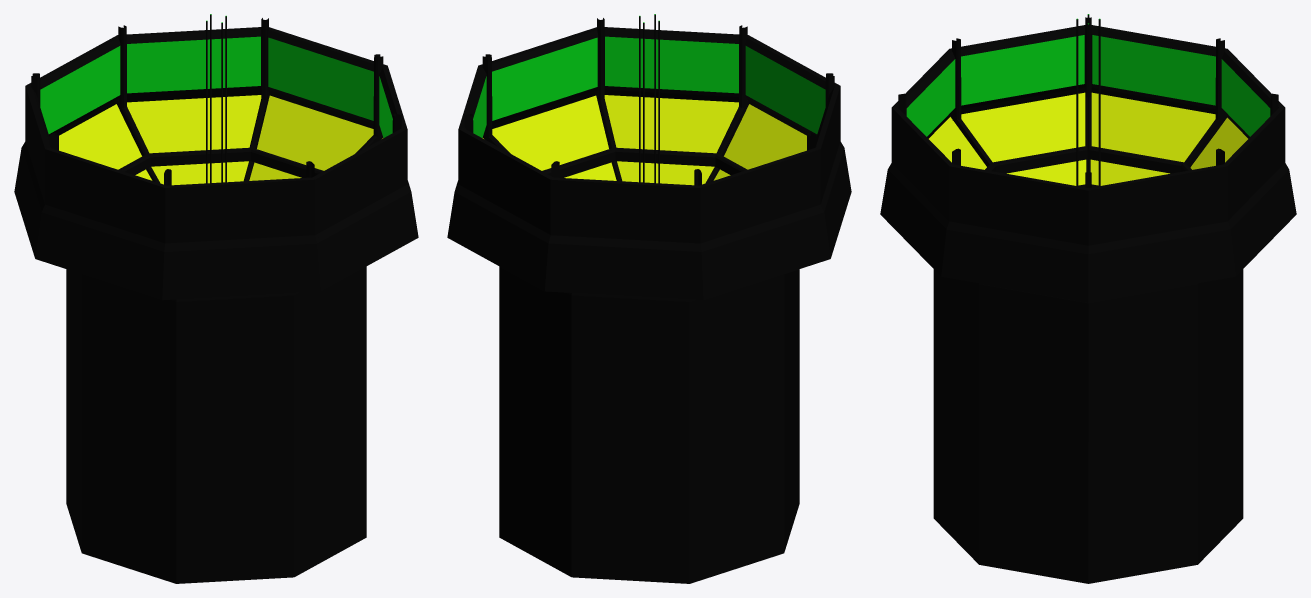
The model's file is Arena_Straight.fbx.
3 views of the same model, side by side, from view 1: azimuth 30°, elevation 25°; view 2: azimuth 150°, elevation 25°; view 3: azimuth 270°, elevation 25° (orthographic).
Parts seen in each view (by area): view 1: Cylinder.003, Cylinder, Cylinder.002, Cylinder.007; view 2: Cylinder.003, Cylinder, Cylinder.002, Cylinder.007; view 3: Cylinder.003, Cylinder, Cylinder.002, Cylinder.007.
Boxes of the visible parts, left/top/right/bottom form: Cylinder.003: left=14, top=18, right=418, bottom=300; Cylinder: left=66, top=266, right=366, bottom=583; Cylinder.002: left=135, top=161, right=301, bottom=301; Cylinder.007: left=206, top=14, right=226, bottom=183; Cylinder.003: left=447, top=18, right=851, bottom=300; Cylinder: left=499, top=266, right=799, bottom=583; Cylinder.002: left=564, top=161, right=730, bottom=301; Cylinder.007: left=639, top=14, right=659, bottom=183; Cylinder.003: left=880, top=17, right=1296, bottom=302; Cylinder: left=933, top=269, right=1243, bottom=583; Cylinder.002: left=978, top=159, right=1198, bottom=303; Cylinder.007: left=1076, top=14, right=1100, bottom=187.
Size of the model in its own units: 1859 by 2460 by 1859.
